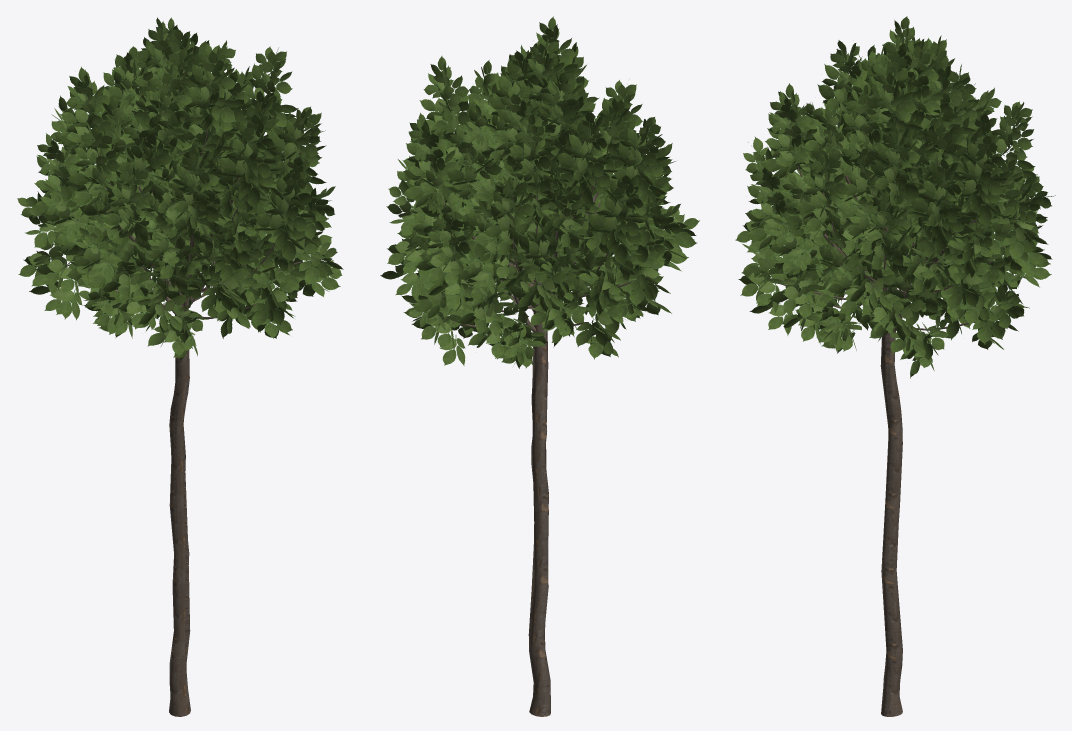
The model's file is mdl_paprika_tree.gltf.
3 renders of one model, left to right at view 1: azimuth 30°, elevation 25°; view 2: azimuth 150°, elevation 25°; view 3: azimuth 270°, elevation 25°, orthographic.
Parts seen in each view (by area): view 1: Leaf01_2, Bark01_2; view 2: Leaf01_2, Bark01_2; view 3: Leaf01_2, Bark01_2.
Part boxes in pixels (x1,y1,x2,y2): Leaf01_2: (17,17,343,362); Bark01_2: (169,281,190,716); Leaf01_2: (380,16,699,368); Bark01_2: (528,283,550,716); Leaf01_2: (735,16,1055,378); Bark01_2: (880,287,902,716).
Bounding box in the file's own units: 121 × 290 × 124.
Materials: 2 (2 with a texture image).
